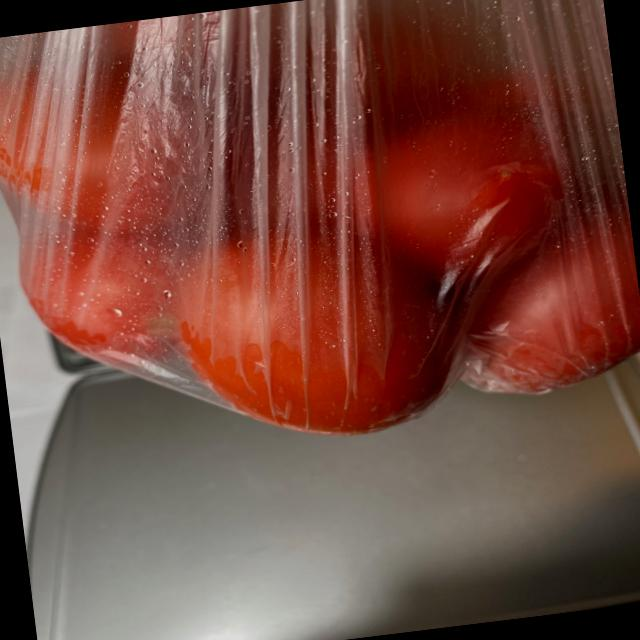tomato: (0, 0, 640, 471)
